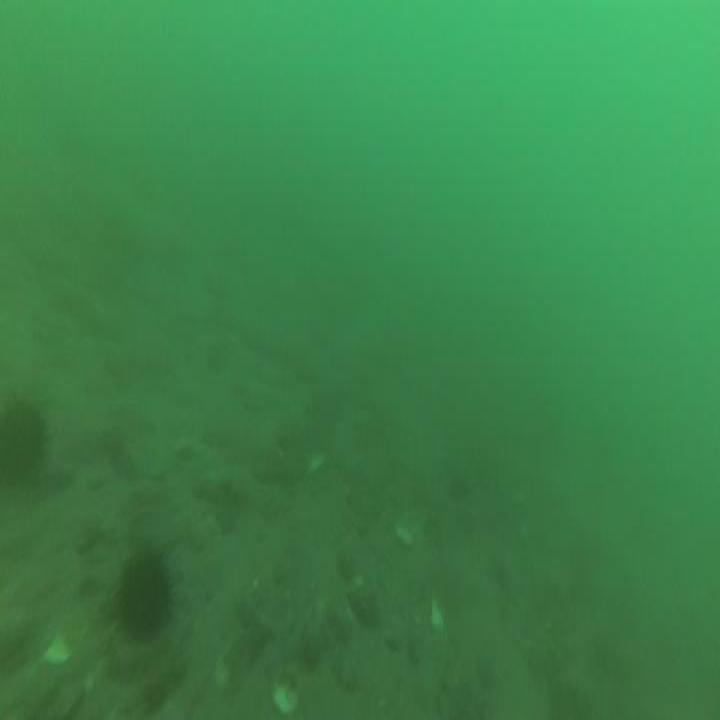echinus: (112, 546, 178, 647), (0, 395, 52, 498)
